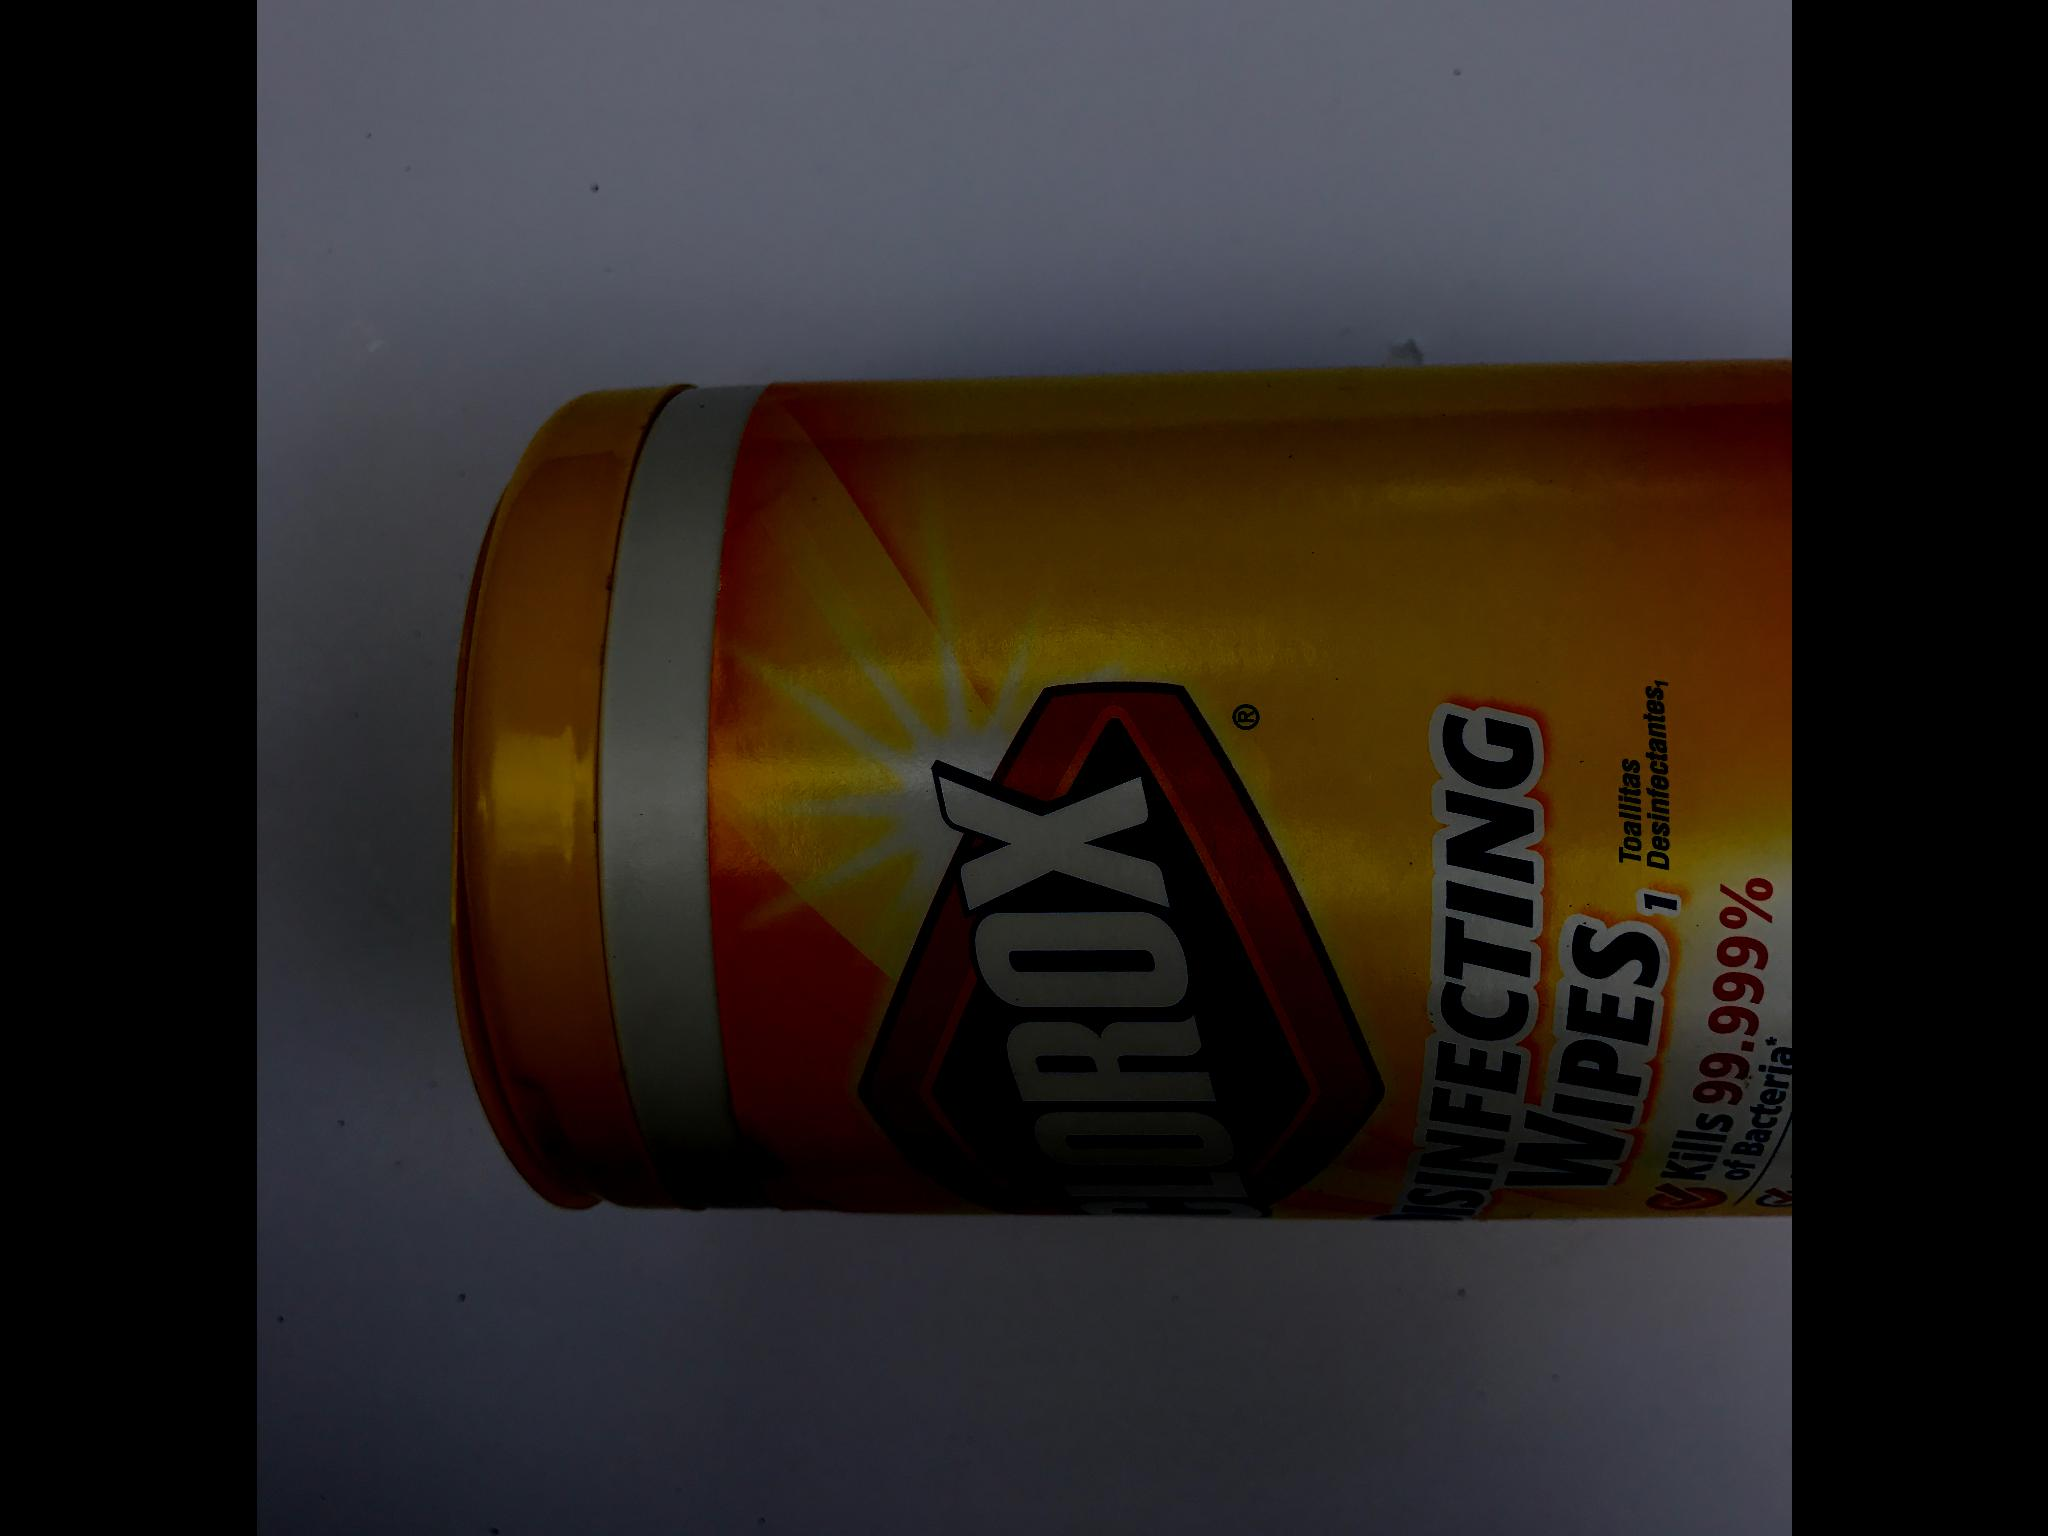Plastic: (387, 355, 1792, 1246)
